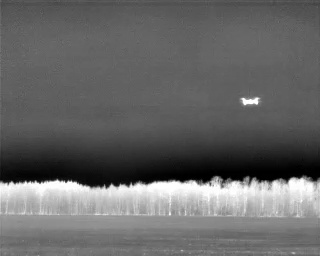DRONE: (236, 92, 264, 111)
